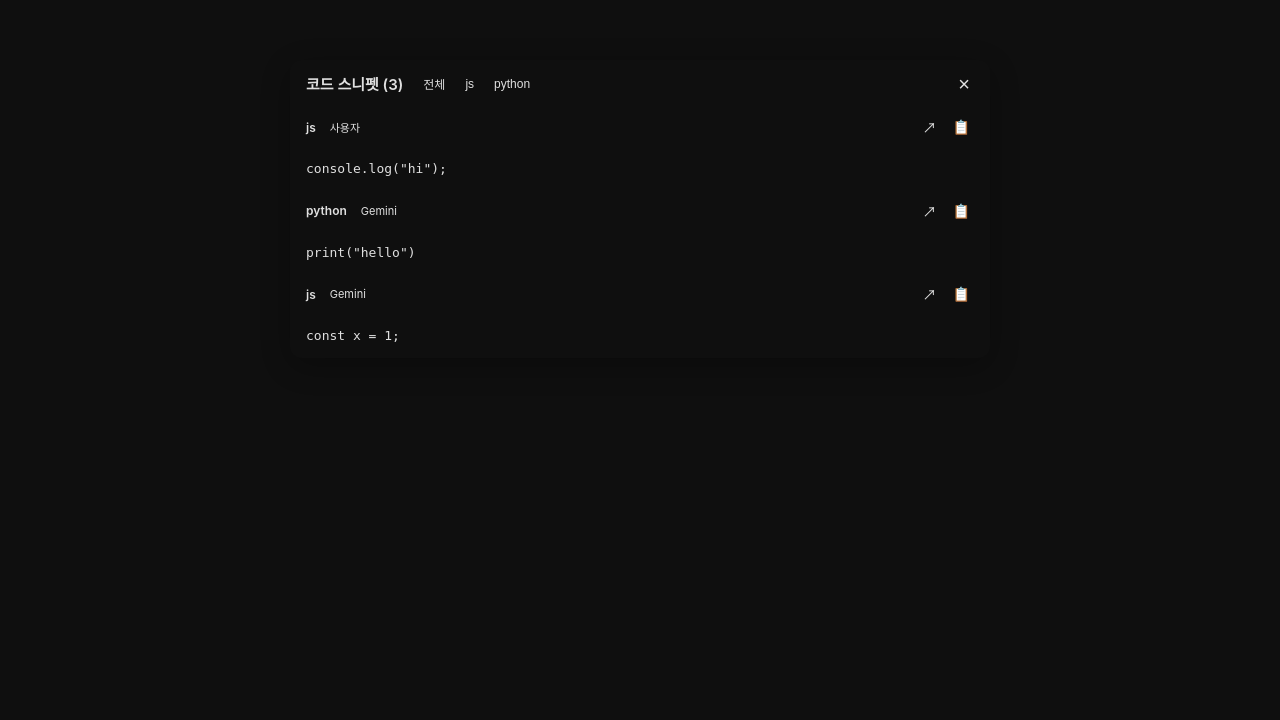
Test case: CodeSnippets › resets to all filter showing all snippets after filtering
Filter to python
Step 1. Click the button with aria-label "python 필터" → (512, 84), box 486,72 -> 538,95
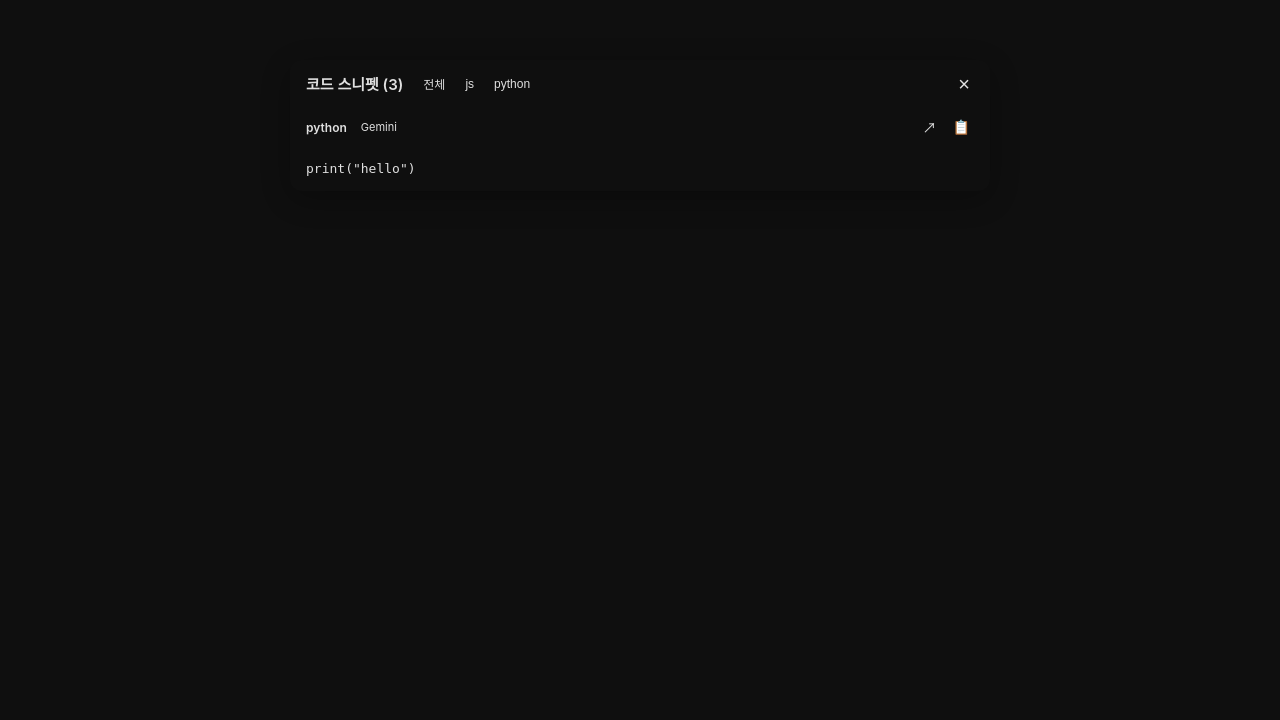
Expected: the number of elements with class "code-snippet-item" is 1, 290,107 -> 990,191
Reset to all
Step 2. Click the button with aria-label "전체 언어 필터" → (434, 84), box 415,72 -> 453,95
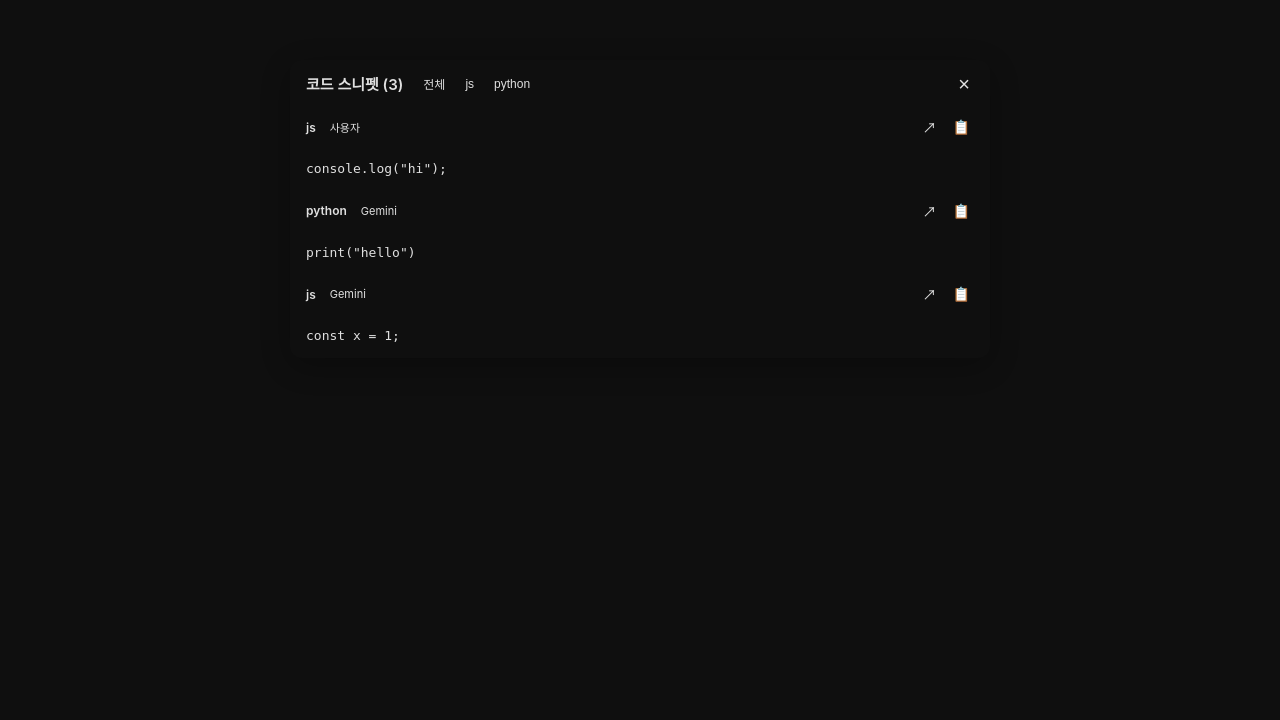
Expected: the number of elements with class "code-snippet-item" is 3, 290,107 -> 990,191; 290,191 -> 990,274; 290,274 -> 990,358
